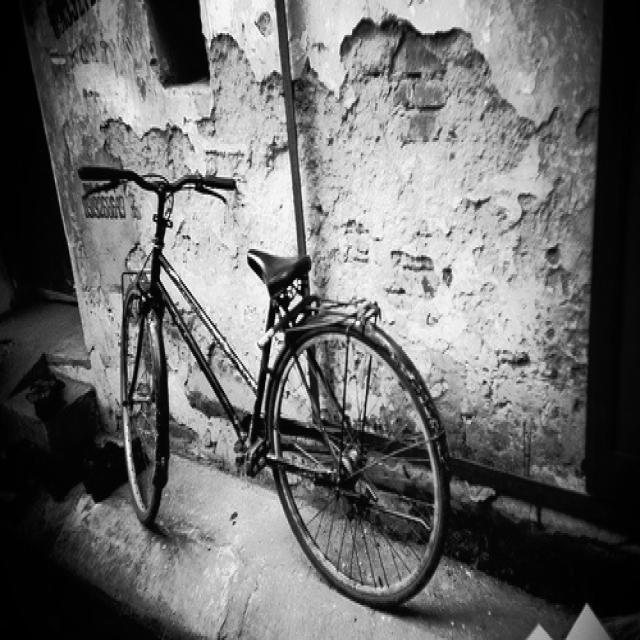bicycle: (74, 161, 452, 611)
